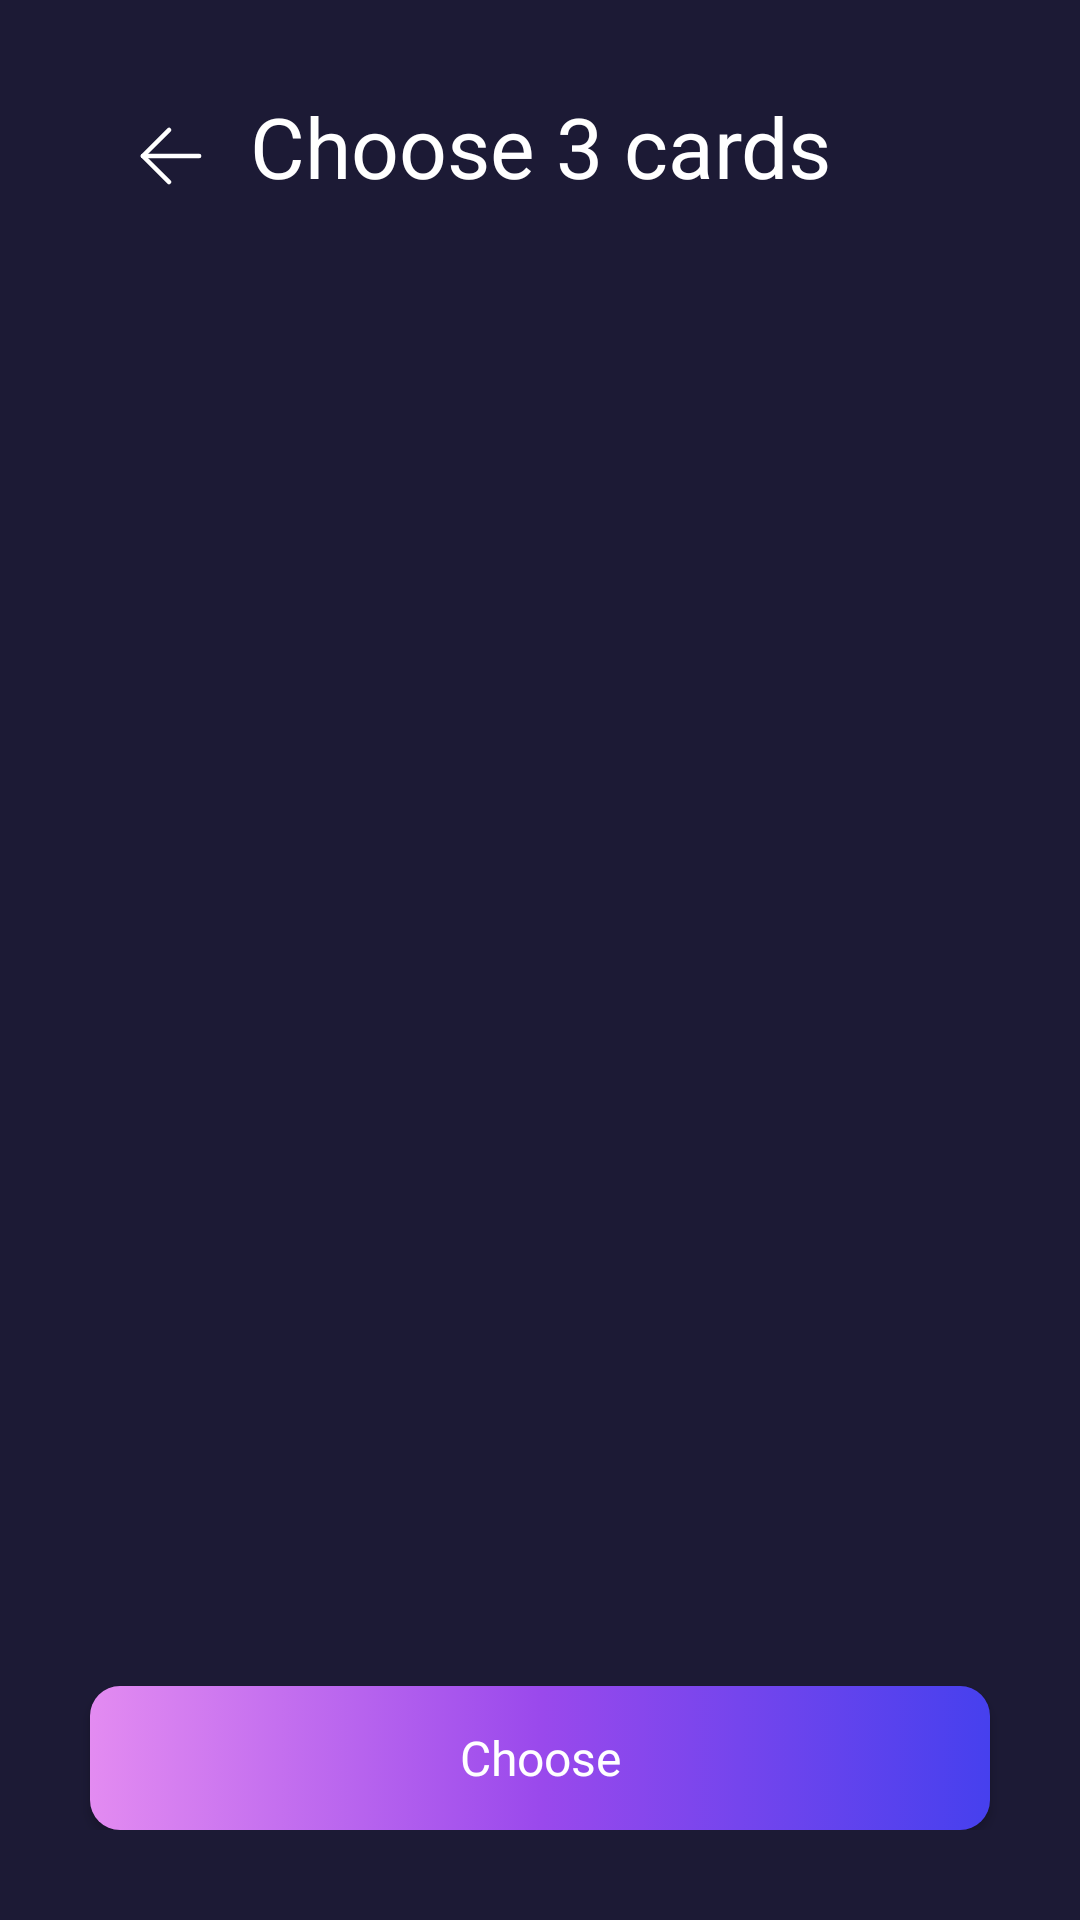

Screen size 1080*1920. Icon name, then its box in pixels as region(x1, y1, x2, y2):
arrow left: region(140, 127, 202, 185)
